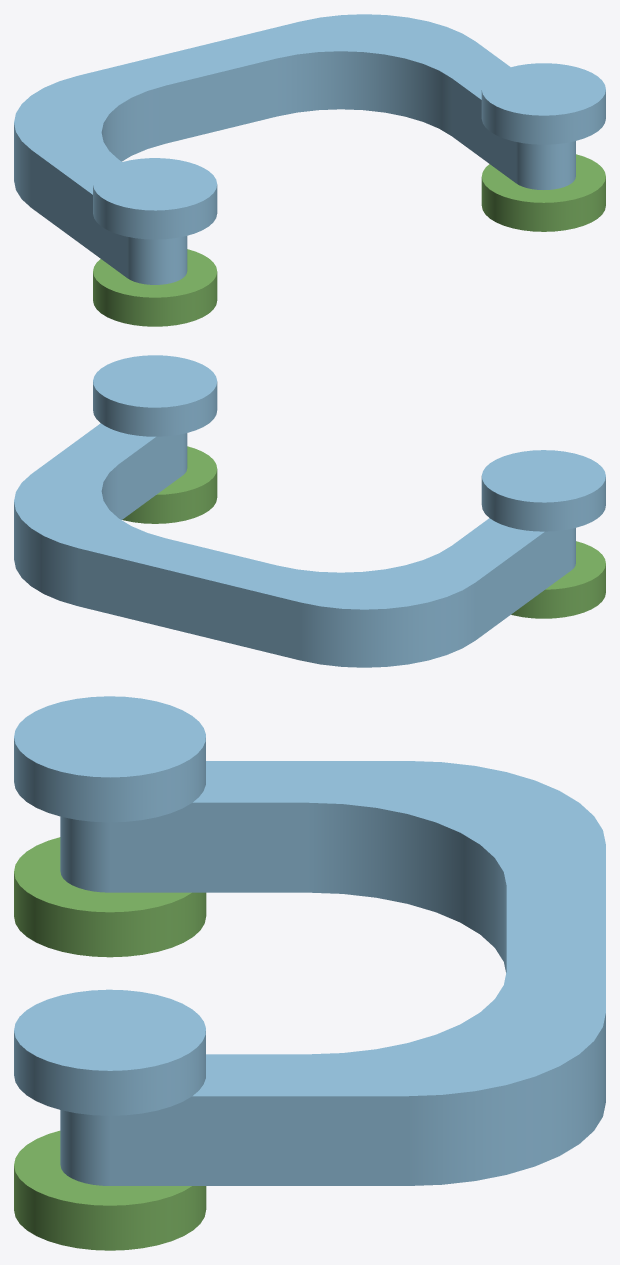
3 views of the same model, one above another, from view 1: azimuth 30°, elevation 25°; view 2: azimuth 150°, elevation 25°; view 3: azimuth 270°, elevation 25° (orthographic). The views are drawn at different scales.
Visible parts, largest first — view 1: Part 1, Part 2, Part 3; view 2: Part 1, Part 3, Part 2; view 3: Part 1, Part 2, Part 3.
Part boxes in pixels (<box>): Part 1: <box>14,14,605,284</box>; Part 2: <box>93,249,217,326</box>; Part 3: <box>481,154,605,231</box>; Part 1: <box>14,355,605,667</box>; Part 3: <box>122,446,217,523</box>; Part 2: <box>511,541,605,618</box>; Part 1: <box>14,696,605,1185</box>; Part 2: <box>14,837,206,957</box>; Part 3: <box>14,1130,206,1250</box>.
Size of the model in its own units: 0.454 by 0.1016 by 0.3032.
